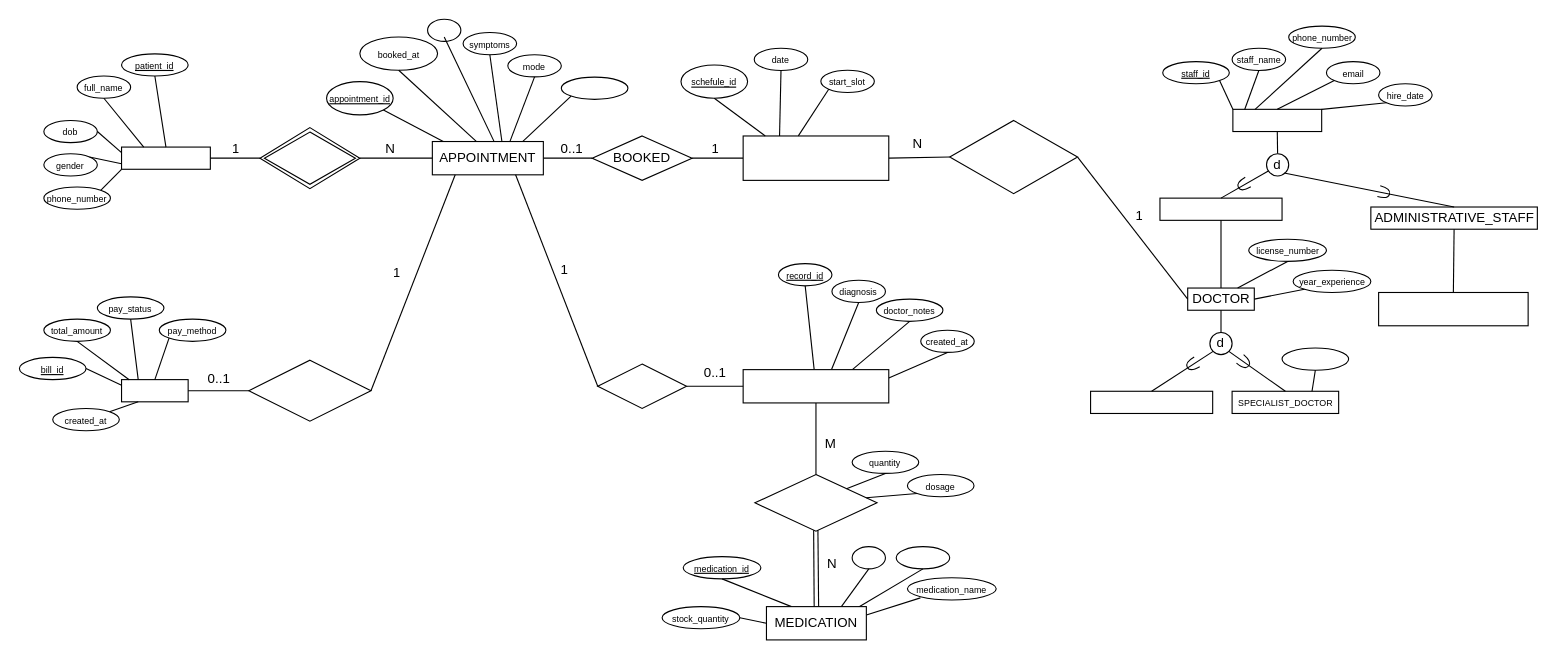
Image size: 1557x660. Some labels were removed from this diagram. Each missing label, with the centre of its shape:
"ASSIGNED_TO" goes at (x=1013, y=156).
"BILL" goes at (x=154, y=390).
"DETAIL" goes at (x=815, y=502).
"GENERAL_PRACTITIONER" goes at (x=1151, y=401).
"GENERATES" goes at (x=309, y=390).
"HAS" goes at (x=642, y=385).
"MAKES" goes at (x=309, y=158).
"MEDICAL_RECORD" goes at (x=815, y=386).
"MEDICAL_STAFF" goes at (x=1220, y=208).
"meeting_url" goes at (x=594, y=87).
"PATIENT" goes at (x=165, y=157).
"specialization" goes at (x=1315, y=358).
"STAFF" goes at (x=1277, y=120).
"status" goes at (x=443, y=29).
"TELEHEALTH_AGENT" goes at (x=1453, y=308).
"unit" goes at (x=868, y=557).
"unit_price" goes at (x=922, y=557).
"WORK_SCHEDULE" goes at (x=815, y=157).
